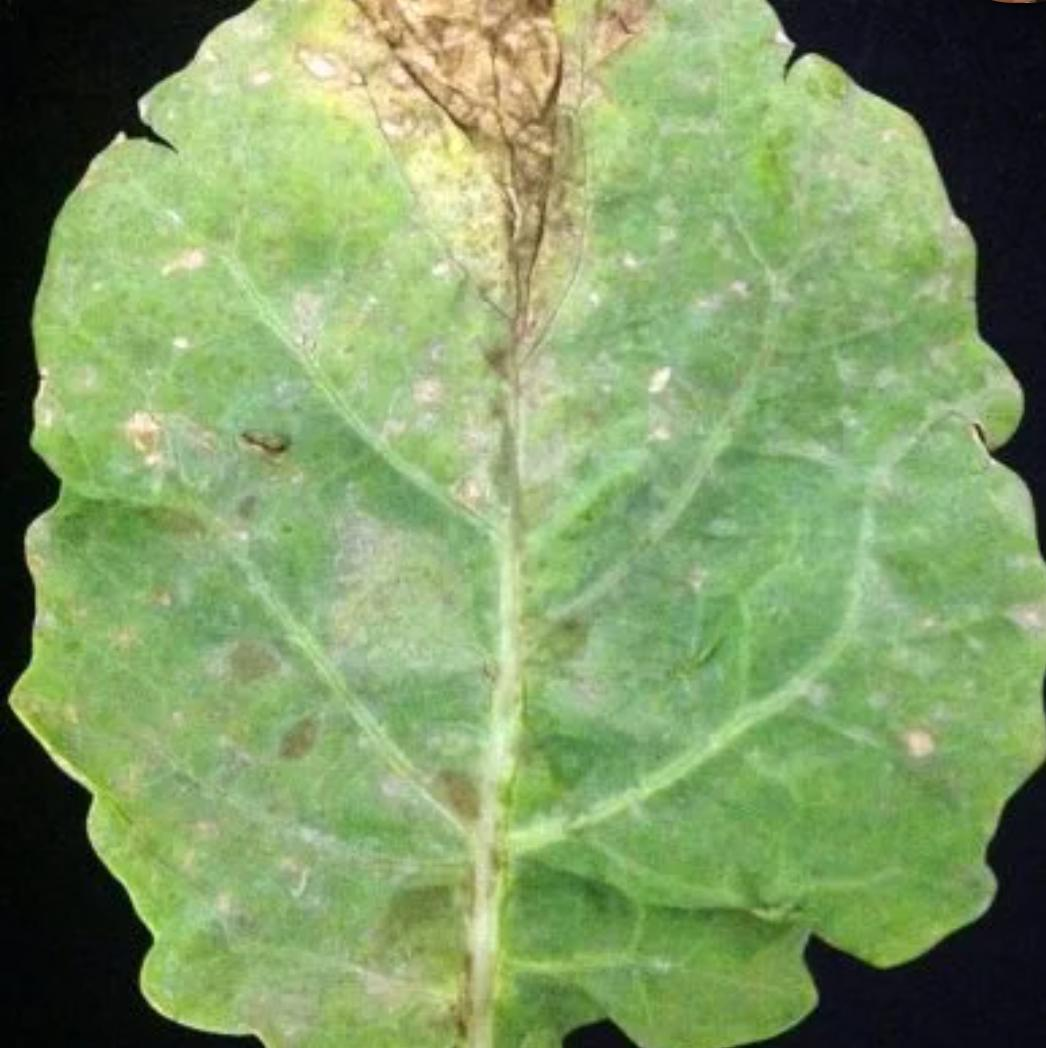Bok-Choy-Diseased: (28, 23, 930, 950)
